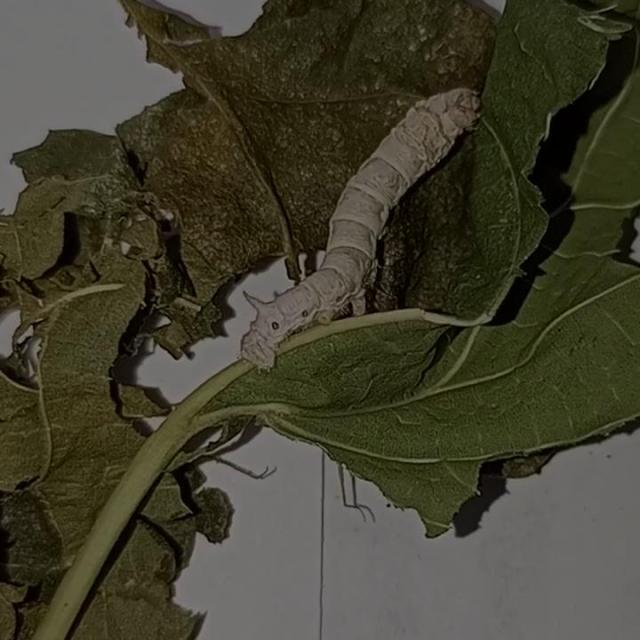Healthy: (227, 62, 500, 392)
